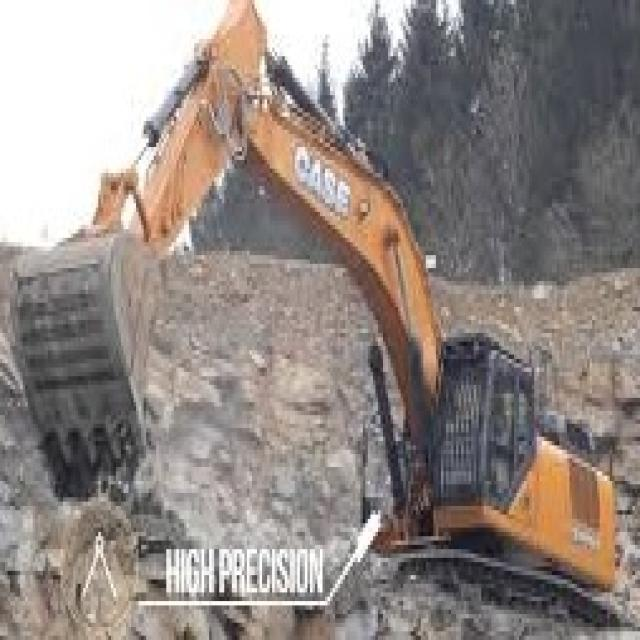excavator: (348, 308, 630, 632)
